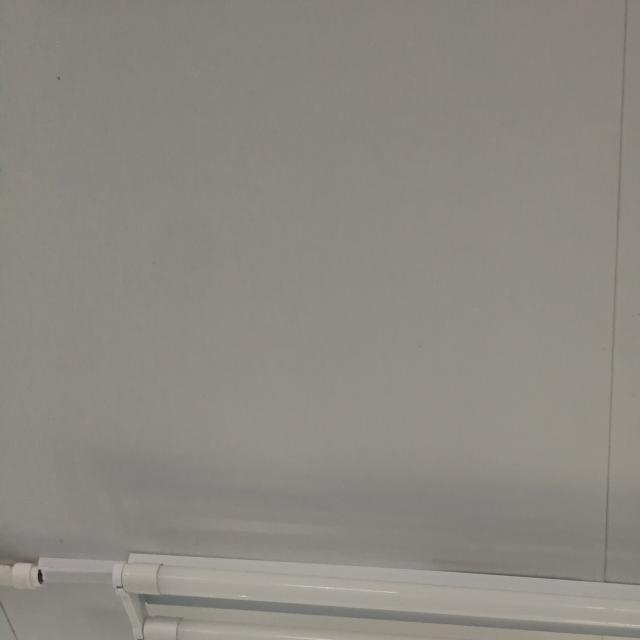fluorescent tube: (85, 522, 639, 640)
